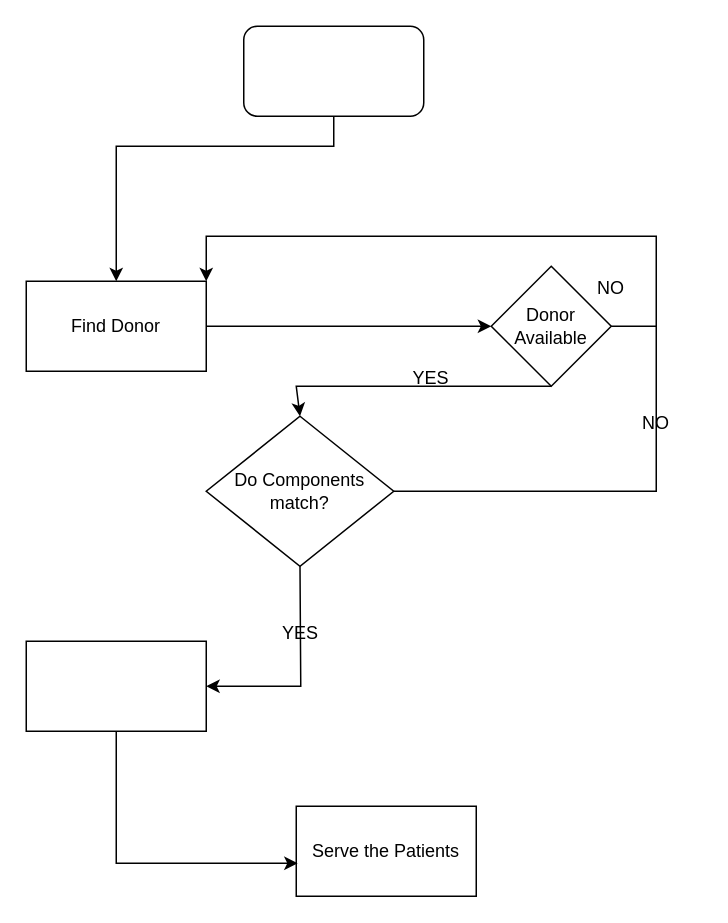
The diagram is 728 pixels wide and 923 high, and some of its shapes have lost their labels. The centre of each missing label's shape, as x and y in pixels:
"Need Blood" belongs at point 333,70.
"Take Blood" belongs at point 115,685.
